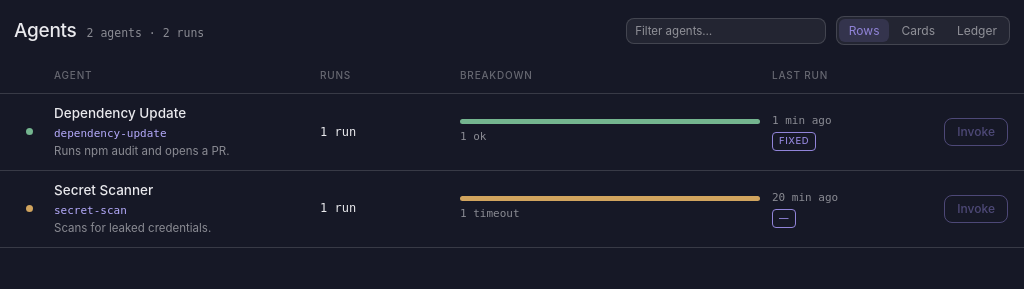
dashboard — filter (AC-107.8, EC-25) › filters in the cards variant too
The width and height of the screenshot is (1024, 289).
Click the button "Cards". click: (918, 31)
box: [892, 19, 945, 42]
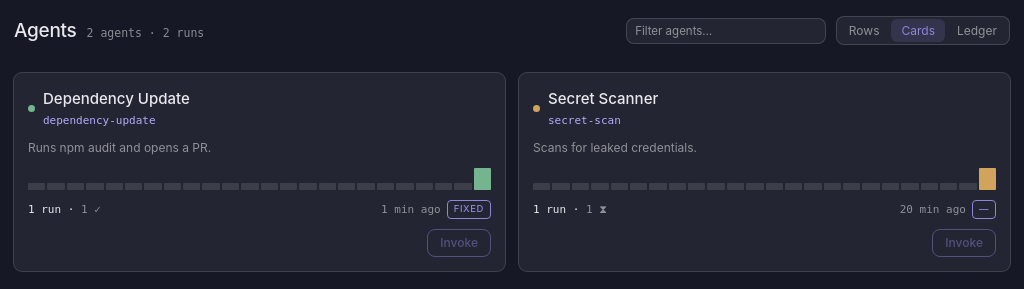
Type "secret" into the search field labelled "Filter agents…". click: (726, 31)
box: [626, 18, 826, 44]
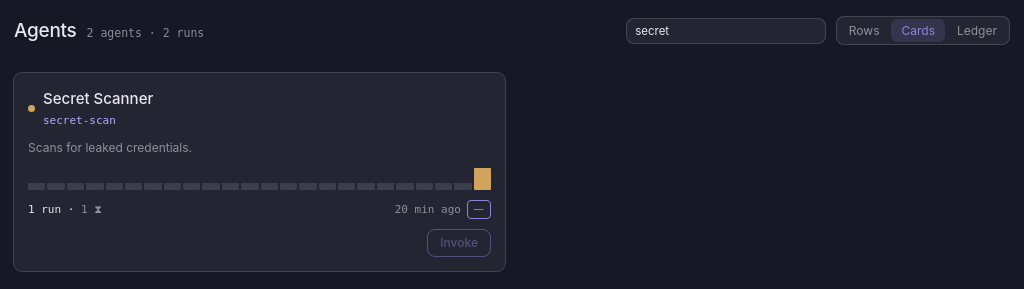
Expected: the link "Secret Scanner" is shown, [43, 87, 153, 111]
Expected: the link "Dependency Update" is gone
